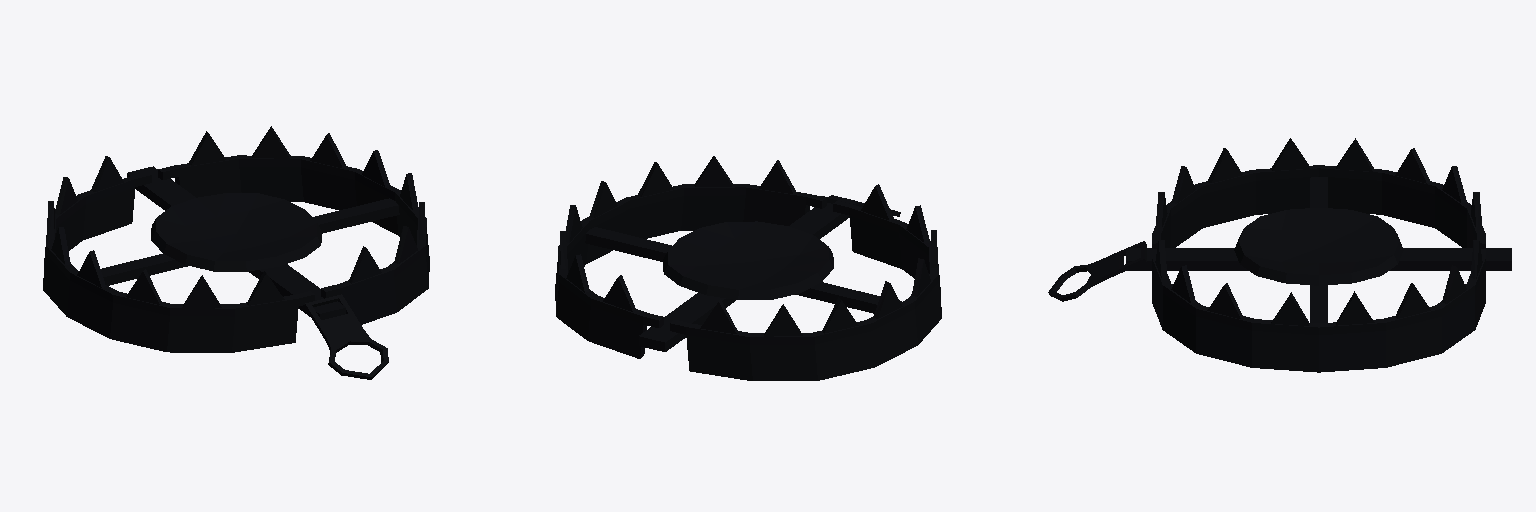
Rendered from BearTrap_Open.obj.
The picture shows the model from 3 angles: view 1: azimuth 30°, elevation 25°; view 2: azimuth 150°, elevation 25°; view 3: azimuth 270°, elevation 25°; orthographic projection.
Parts seen in each view (by area): view 1: BearTrap_Open_Cube.033; view 2: BearTrap_Open_Cube.033; view 3: BearTrap_Open_Cube.033.
Part boxes in pixels (left/top/right/bottom): BearTrap_Open_Cube.033: left=43, top=126, right=429, bottom=379; BearTrap_Open_Cube.033: left=555, top=156, right=941, bottom=380; BearTrap_Open_Cube.033: left=1048, top=138, right=1511, bottom=372.
Size of the model in its own units: 1.2 by 0.27 by 1.42.